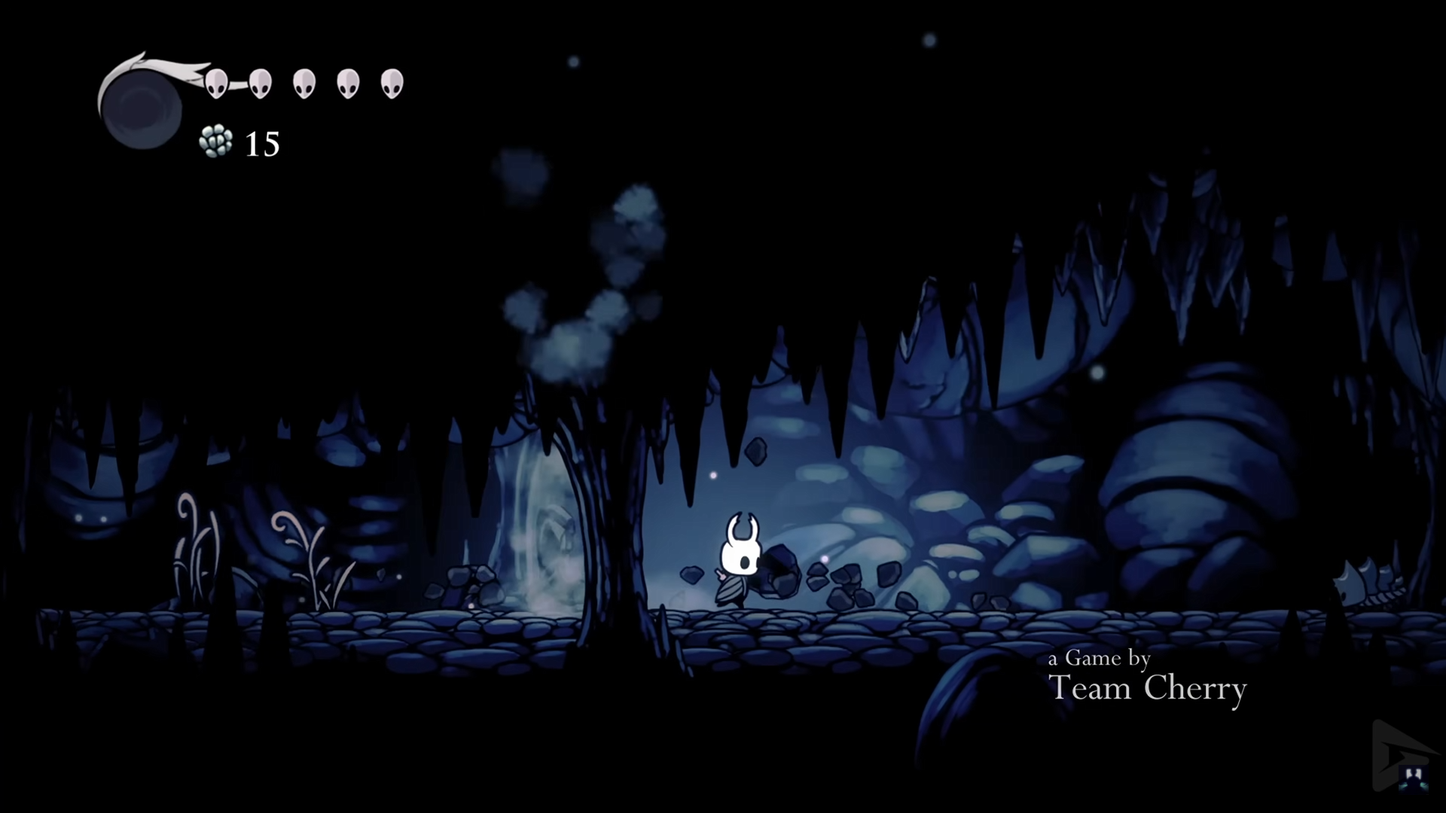HK: (711, 510, 768, 614)
